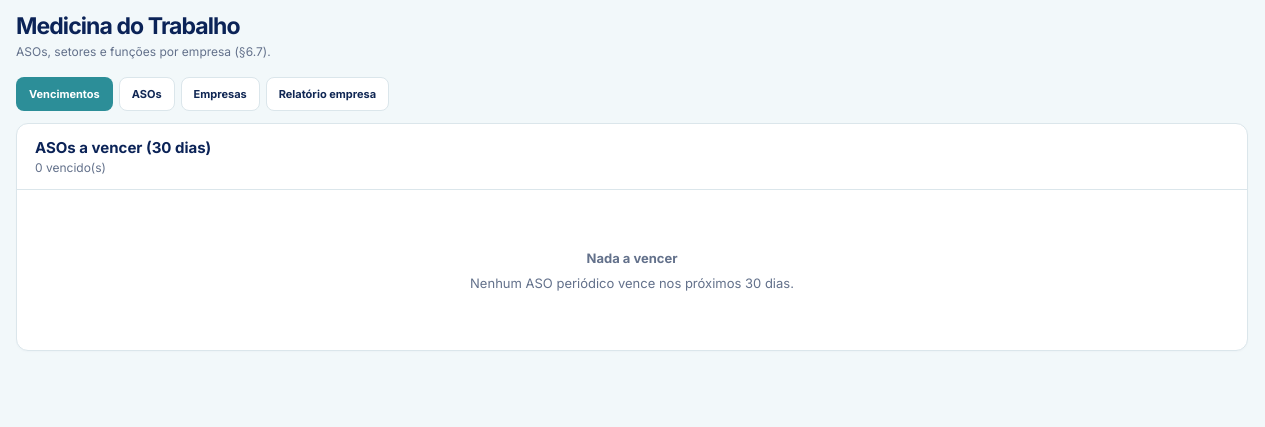
Test case: aba empresas lista setores funções e riscos
Click the tab "Empresas" at (220, 94), box 181,77 -> 260,111
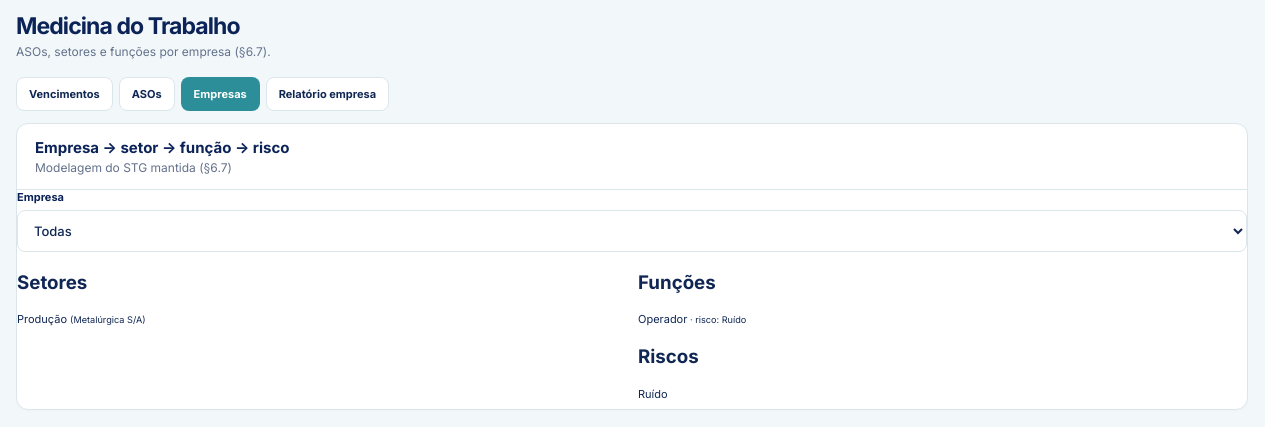
Expected: the text "Operador" is shown, 638,312 -> 687,326
Expected: the text "Ruído" is shown, 722,314 -> 746,325
